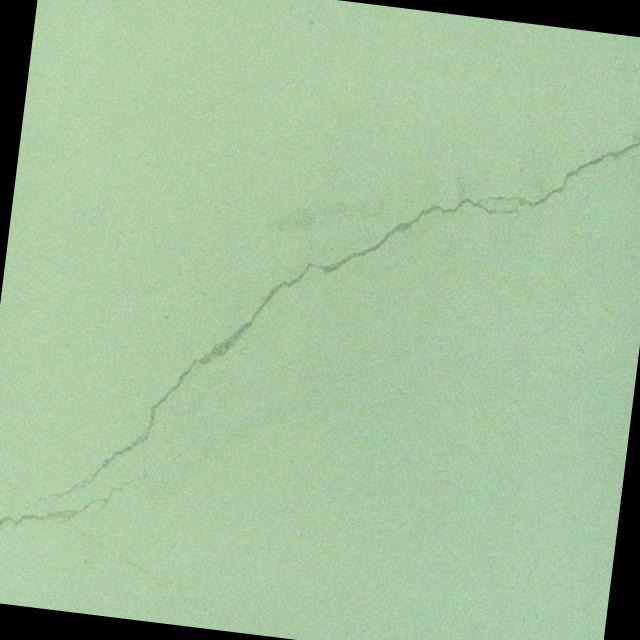crack: (35, 43, 640, 574), (0, 410, 198, 581)
